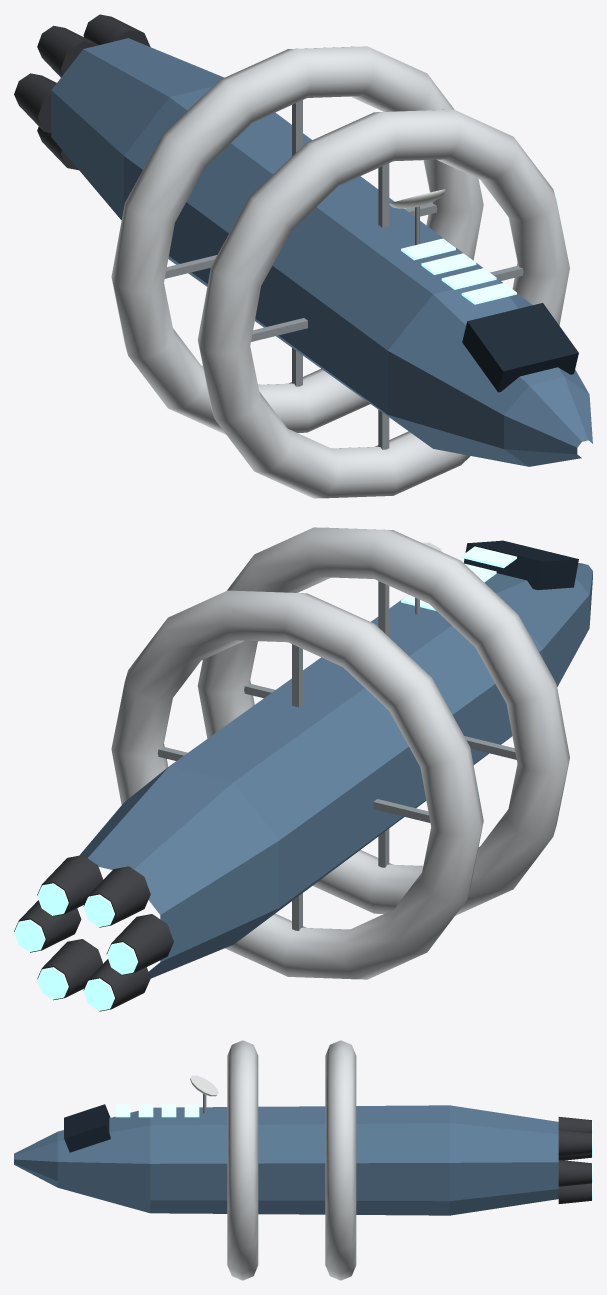
The model's file is space_ship_colony_transport_mk5.glb.
The picture shows the model from 3 angles, top to bottom: view 1: azimuth 30°, elevation 25°; view 2: azimuth 150°, elevation 25°; view 3: azimuth 270°, elevation 25°; orthographic projection. The views are drawn at different scales.
Visible parts, largest first — view 1: body, habitat_ring_1, habitat_ring_0, engine_2, engine_3, engine_1, antenna_0; view 2: body, habitat_ring_0, habitat_ring_1, engine_3, engine_2, engine_1, engine_5, engine_0, engine_4; view 3: body, habitat_ring_0, habitat_ring_1, engine_1, engine_0, engine_5, engine_2, antenna_0.
Boxes of the visible parts, box(x1,y1,x2,y2) form: body: box(51, 38, 592, 466); habitat_ring_1: box(197, 109, 569, 498); habitat_ring_0: box(111, 46, 483, 434); engine_2: box(37, 25, 98, 77); engine_3: box(14, 73, 56, 132); engine_1: box(83, 14, 150, 46); antenna_0: box(389, 189, 445, 245); body: box(79, 540, 592, 978); habitat_ring_0: box(111, 590, 483, 979); habitat_ring_1: box(197, 527, 569, 915); engine_3: box(106, 914, 173, 975); engine_2: box(83, 866, 150, 927); engine_1: box(37, 855, 103, 916); engine_5: box(37, 939, 103, 1000); engine_0: box(14, 900, 81, 952); engine_4: box(83, 959, 150, 1011); body: box(14, 1104, 558, 1215); habitat_ring_0: box(325, 1040, 356, 1280); habitat_ring_1: box(227, 1040, 258, 1280); engine_1: box(558, 1129, 592, 1156); engine_0: box(558, 1160, 592, 1186); engine_5: box(558, 1182, 592, 1203); engine_2: box(558, 1117, 592, 1133); antenna_0: box(190, 1075, 218, 1113).
Size of what is drawn, in the model's own units: 26.16 by 26.16 by 62.92.
